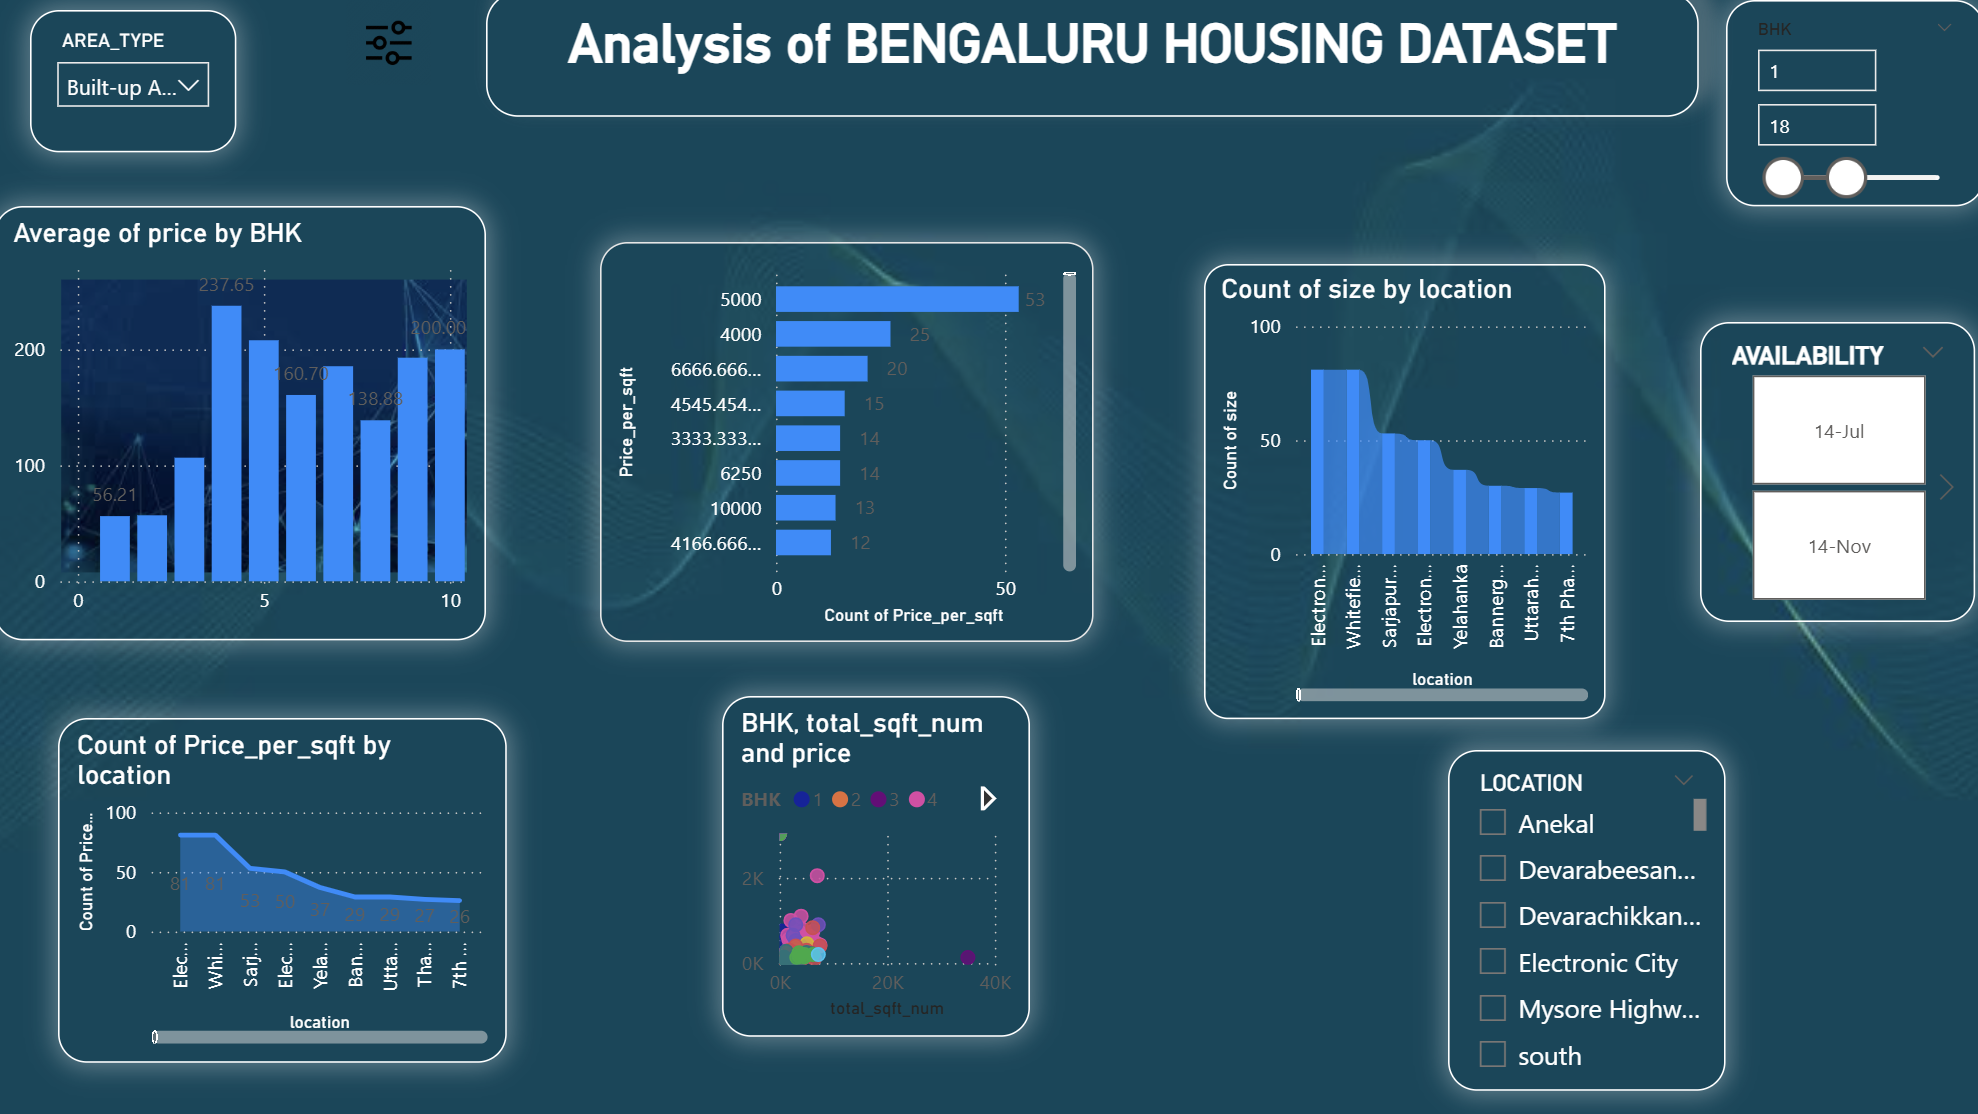

This screenshot's page, from the dashboard's own definition file:
{"tool":"powerbi","page":{"name":"Dashboard","canvas":[1280,720],"ordinal":0},"visuals":[{"type":"textbox","box":[309,10.5,758.2,78],"z":2000},{"type":"clusteredColumnChart","fields":{"Category":["Bengaluru_House_Data_new.BHK"],"Y":["Avg(Bengaluru_House_Data_new.price)"]},"box":[1.3,144.1,307.3,271.6],"z":3000},{"type":"clusteredBarChart","fields":{"Category":["Bengaluru_House_Data_new.Price_per_sqft"],"Y":["CountNonNull(Bengaluru_House_Data_new.Price_per_sqft)"]},"box":[379.9,165.7,308.5,249.9],"z":4000},{"type":"ribbonChart","fields":{"Category":["Bengaluru_House_Data_new.location"],"Y":["CountNonNull(Bengaluru_House_Data_new.size)"]},"box":[757.3,179.8,251.2,284.3],"z":5000},{"type":"stackedAreaChart","fields":{"Category":["Bengaluru_House_Data_new.location"],"Y":["CountNonNull(Bengaluru_House_Data_new.Price_per_sqft)"]},"box":[40.8,464.1,280.5,215.5],"z":6000},{"type":"scatterChart","fields":{"X":["Bengaluru_House_Data_new.total_sqft_num"],"Y":["Bengaluru_House_Data_new.price"],"Series":["Bengaluru_House_Data_new.BHK"]},"box":[456.4,450,192.5,212.9],"z":7000},{"type":"slicer","fields":{"Values":["Bengaluru_House_Data_new.location"]},"box":[910.3,483.2,173.4,212.9],"z":8000},{"type":"slicer","fields":{"Values":["Bengaluru_House_Data_new.BHK"]},"box":[1083.8,15,161.2,128.8],"z":9000},{"type":"slicer","fields":{"Values":["Bengaluru_House_Data_new.area_type"]},"box":[24.2,21.7,128.8,89.2],"z":10000},{"type":"slicer","fields":{"Values":["Bengaluru_House_Data_new.availability"]},"box":[1067.1,216.7,172.1,187.4],"z":11000}]}

Visuals, with their boxes in screenshot pixels (x1, y1, x2, y2), scaled from the page's 1280x720 canvas onto the 1978x1114 screenshot:
textbox: crop(478, 16, 1649, 137)
clusteredColumnChart - Bengaluru_House_Data_new.BHK x Avg(Bengaluru_House_Data_new.price): crop(2, 223, 477, 643)
clusteredBarChart - Bengaluru_House_Data_new.Price_per_sqft x CountNonNull(Bengaluru_House_Data_new.Price_per_sqft): crop(587, 256, 1064, 643)
ribbonChart - Bengaluru_House_Data_new.location x CountNonNull(Bengaluru_House_Data_new.size): crop(1170, 278, 1558, 718)
stackedAreaChart - Bengaluru_House_Data_new.location x CountNonNull(Bengaluru_House_Data_new.Price_per_sqft): crop(63, 718, 497, 1051)
scatterChart - Bengaluru_House_Data_new.total_sqft_num x Bengaluru_House_Data_new.price: crop(705, 696, 1003, 1026)
slicer - Bengaluru_House_Data_new.location: crop(1407, 748, 1675, 1077)
slicer - Bengaluru_House_Data_new.BHK: crop(1675, 23, 1924, 222)
slicer - Bengaluru_House_Data_new.area_type: crop(37, 34, 236, 172)
slicer - Bengaluru_House_Data_new.availability: crop(1649, 335, 1915, 625)
